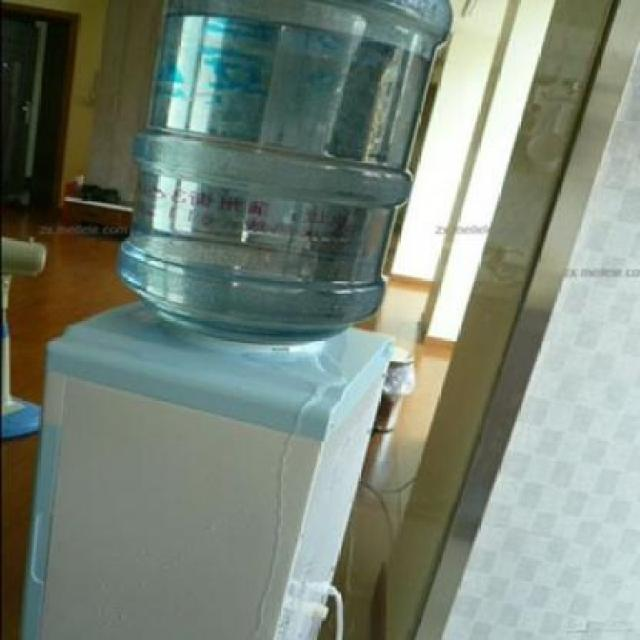cooler: (24, 3, 458, 640)
